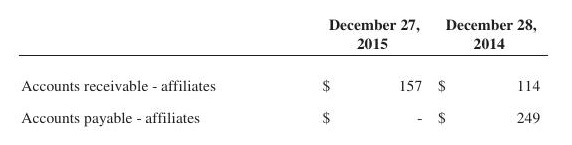table: (0, 0, 572, 145)
